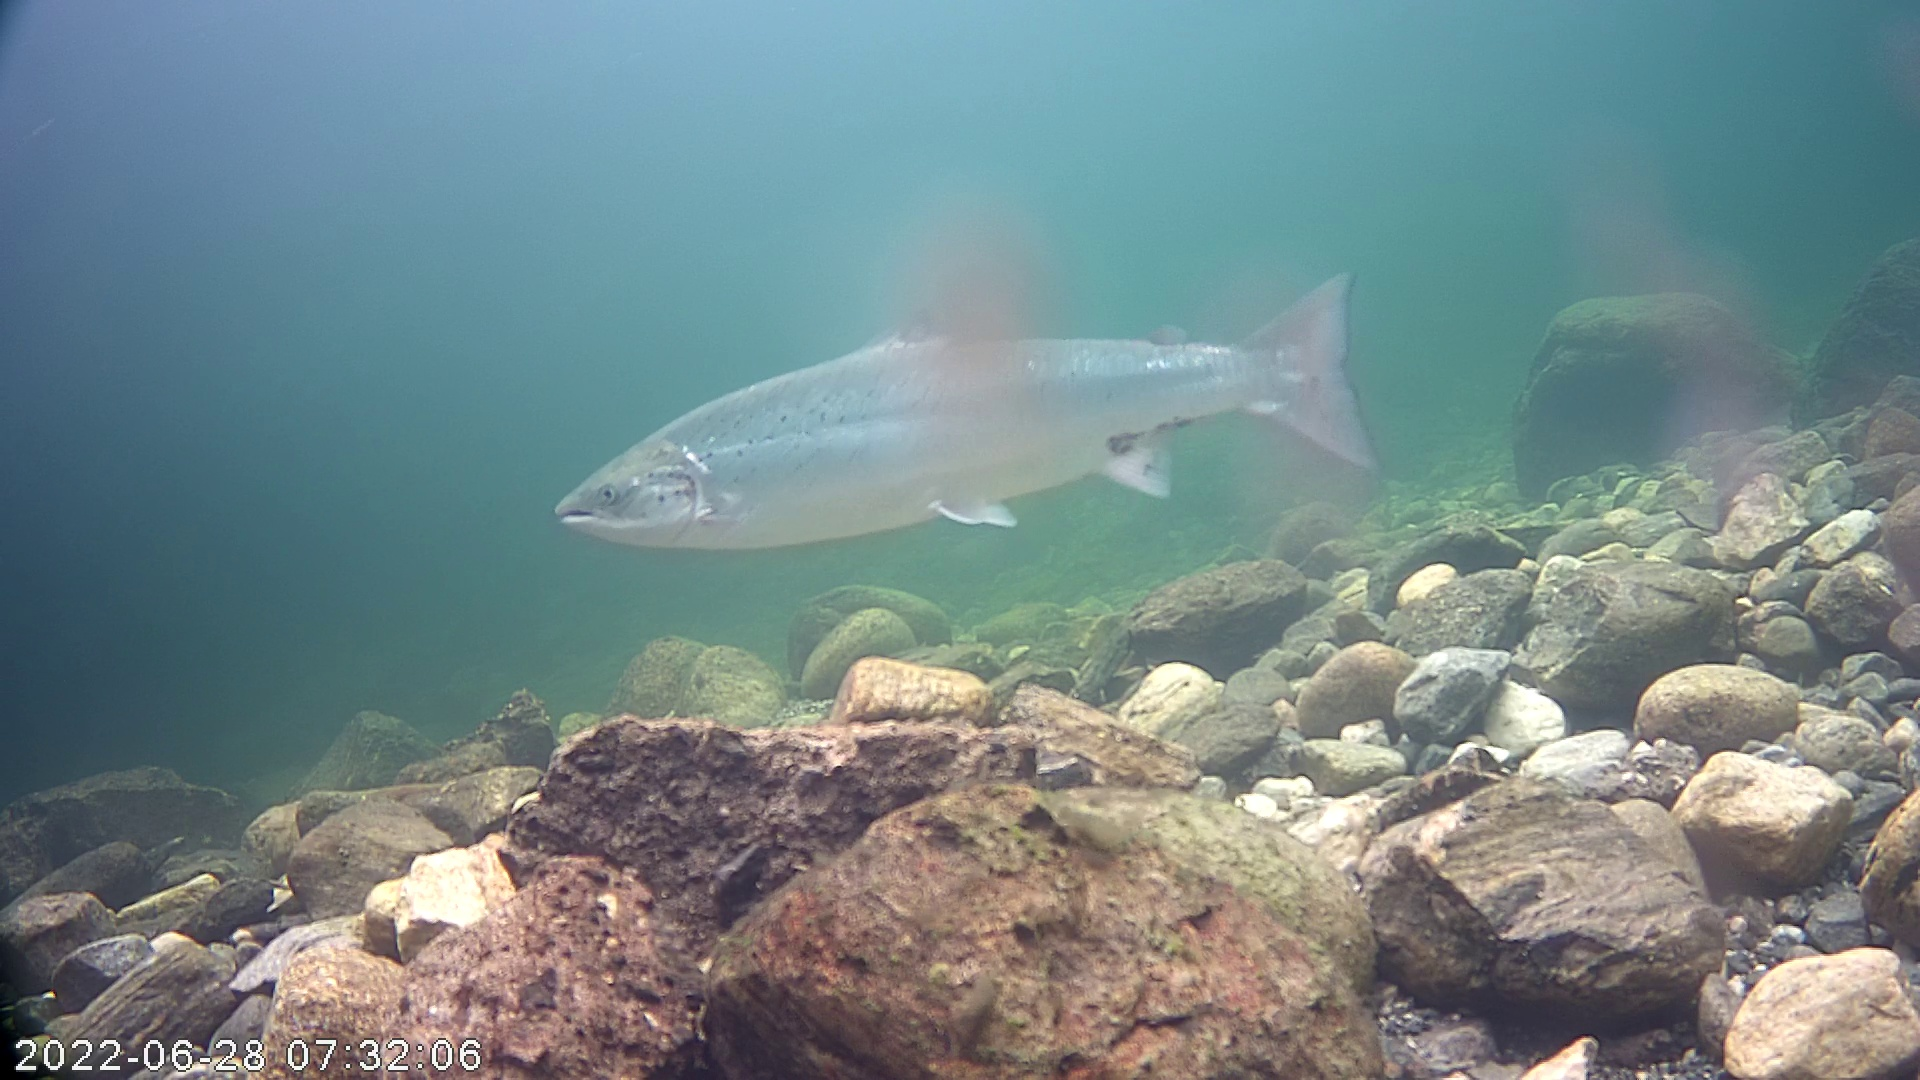salmon: (542, 174, 1414, 621)
